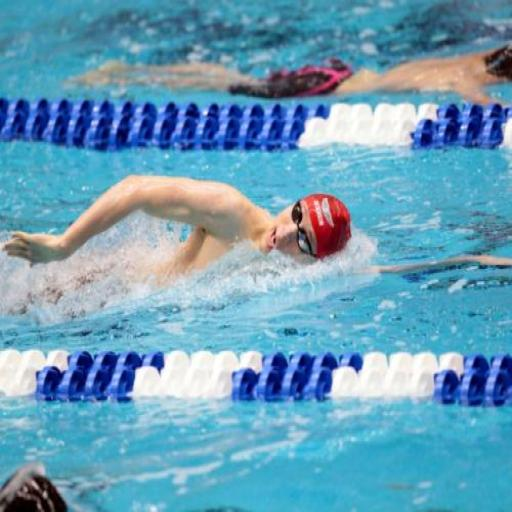swimming: (0, 171, 511, 325), (61, 30, 511, 109)
